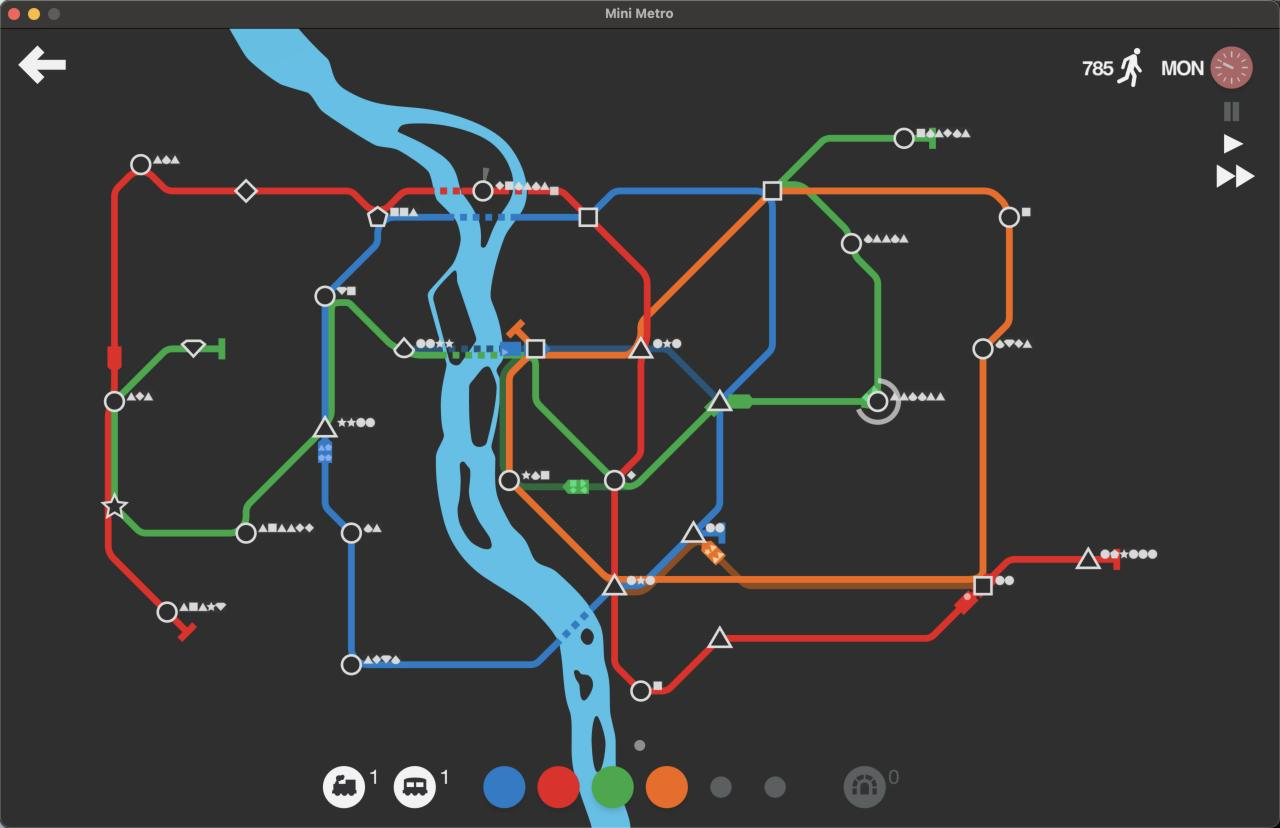CIRCLE: (971, 337, 994, 360), (630, 679, 652, 702), (235, 521, 257, 544), (103, 390, 125, 413), (998, 206, 1020, 229), (313, 285, 336, 307), (603, 469, 626, 491), (156, 601, 178, 623), (340, 654, 362, 676), (472, 179, 494, 201), (893, 127, 915, 149), (340, 522, 362, 544), (130, 153, 152, 175), (840, 232, 862, 254), (499, 469, 520, 491)
DIAMOND: (181, 339, 206, 358)
GEM: (234, 178, 258, 203)
PENTAGON: (367, 206, 387, 227)
SQUARE: (524, 338, 547, 359), (578, 207, 599, 228), (973, 575, 993, 596), (762, 181, 782, 201)
STAR: (100, 493, 129, 519)
TRIANGLE: (706, 388, 733, 413), (681, 520, 707, 545), (1074, 546, 1102, 569), (627, 338, 655, 360), (708, 625, 733, 649), (312, 416, 338, 438), (602, 574, 628, 595)
WEDGE: (393, 336, 415, 359)
